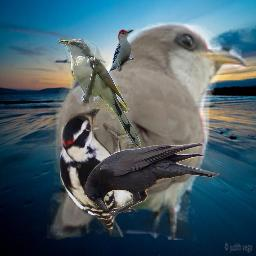Crow: (85, 143, 220, 222)
Cuckoo: (47, 22, 246, 240), (58, 38, 141, 148)
Woodpecker: (60, 109, 143, 237), (108, 29, 134, 73)
